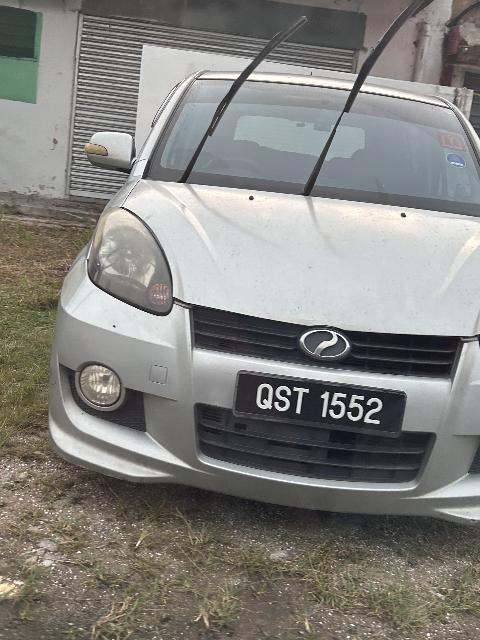License_Plate: (231, 370, 407, 445)
QST1552: (231, 370, 407, 445)
car: (41, 68, 480, 542)
